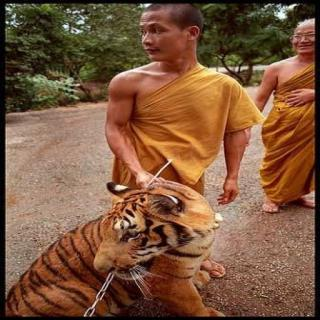Tiger: (1, 177, 219, 320)
